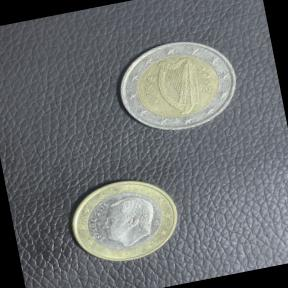coin: (106, 26, 249, 144), (57, 164, 192, 276)
